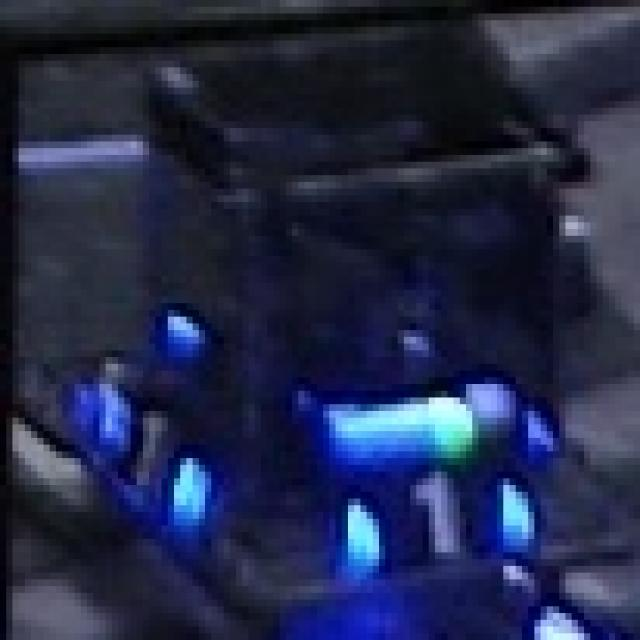B1: (342, 458, 534, 573), (93, 384, 211, 532)
